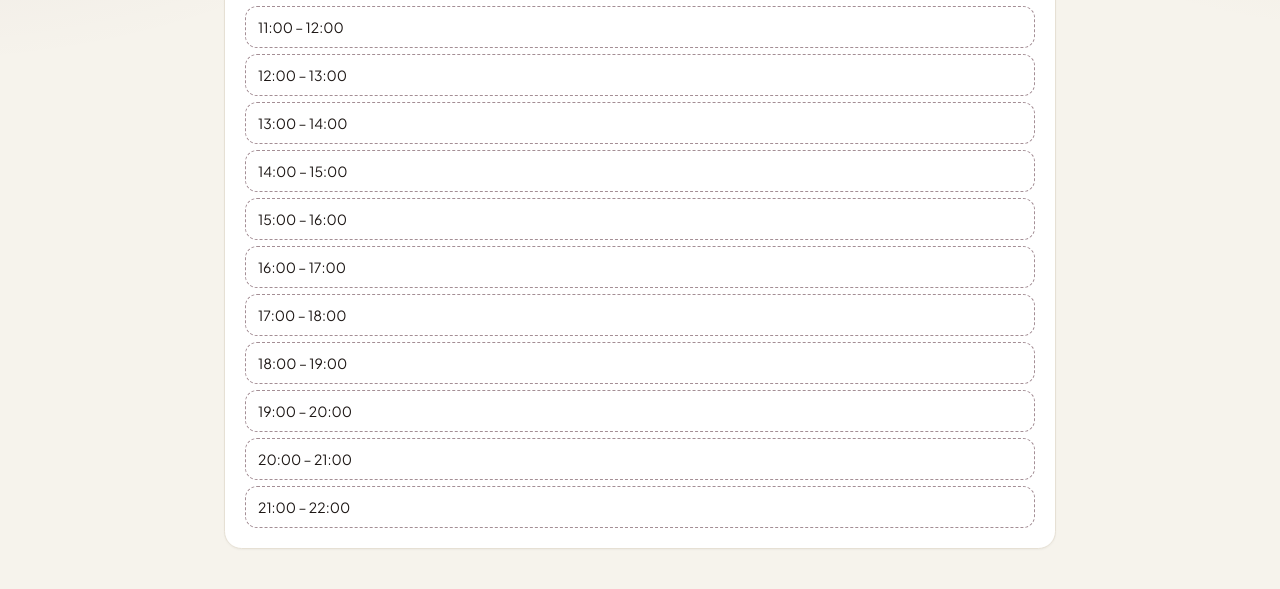
Scenario: RecursoAgenda Page & Concurrency Prevention (US09 / RF04) › exibe erro de lotação máxima quando o backend rejeita o payload
(page scrolled)
Click the button "16:00 – 17:00" at (277, 267), box [245,246,1035,288]
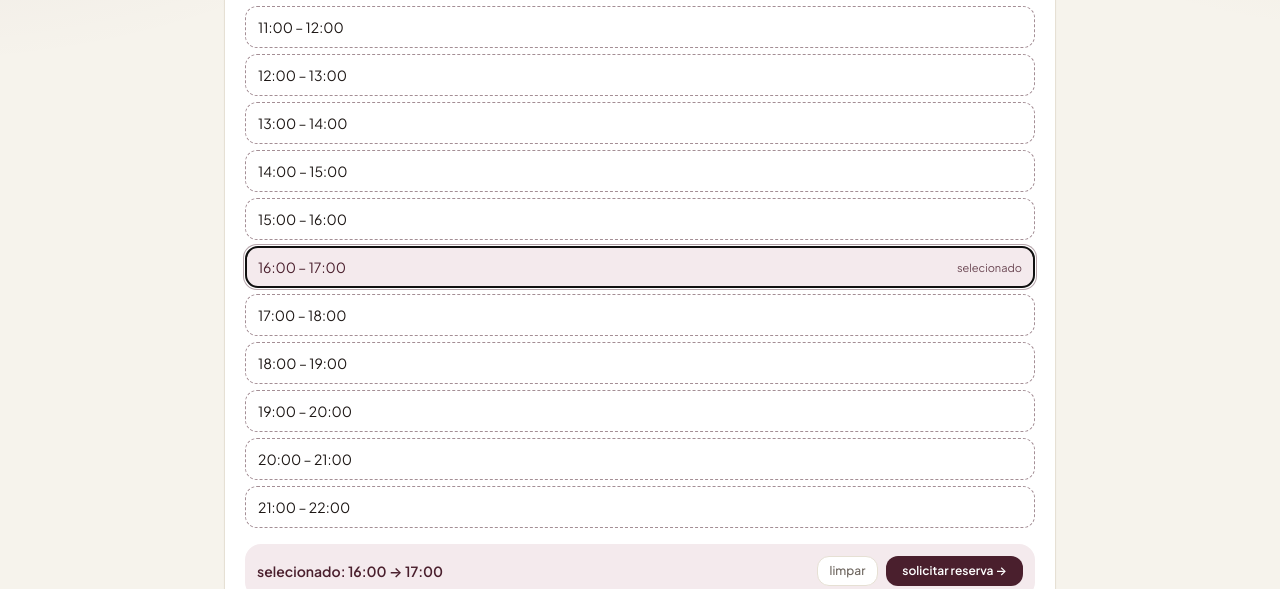
Click the button "solicitar reserva →" at (955, 571), box [886,556,1023,586]
(page scrolled)
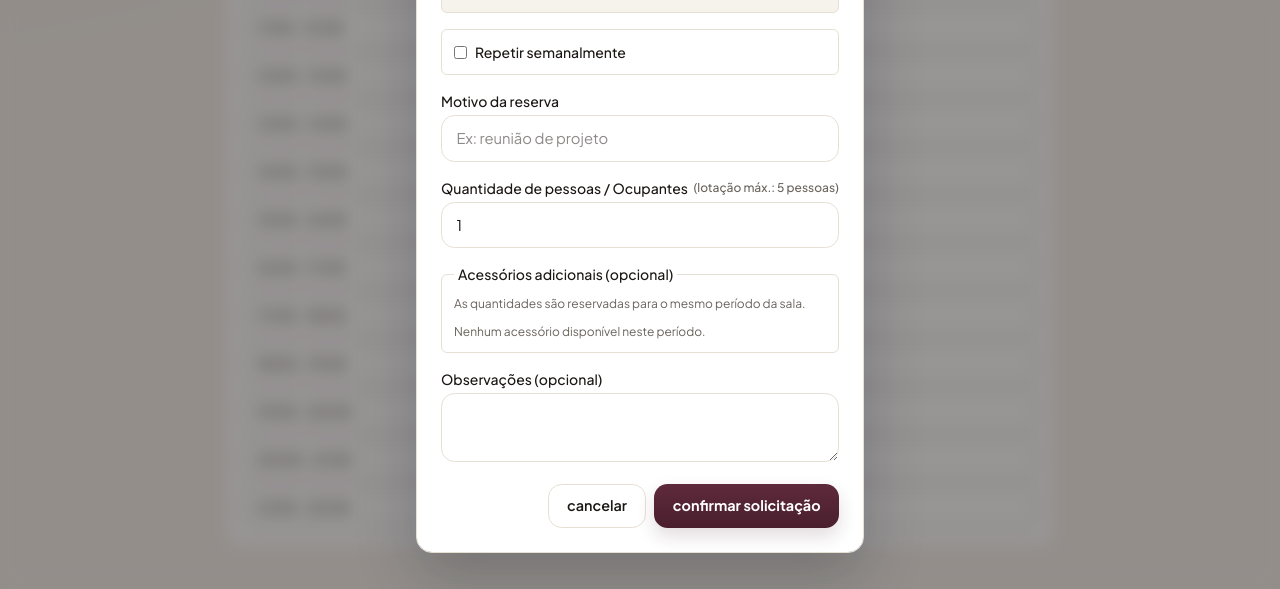
Click the button "confirmar solicitação" at (747, 506), box [654,484,839,528]
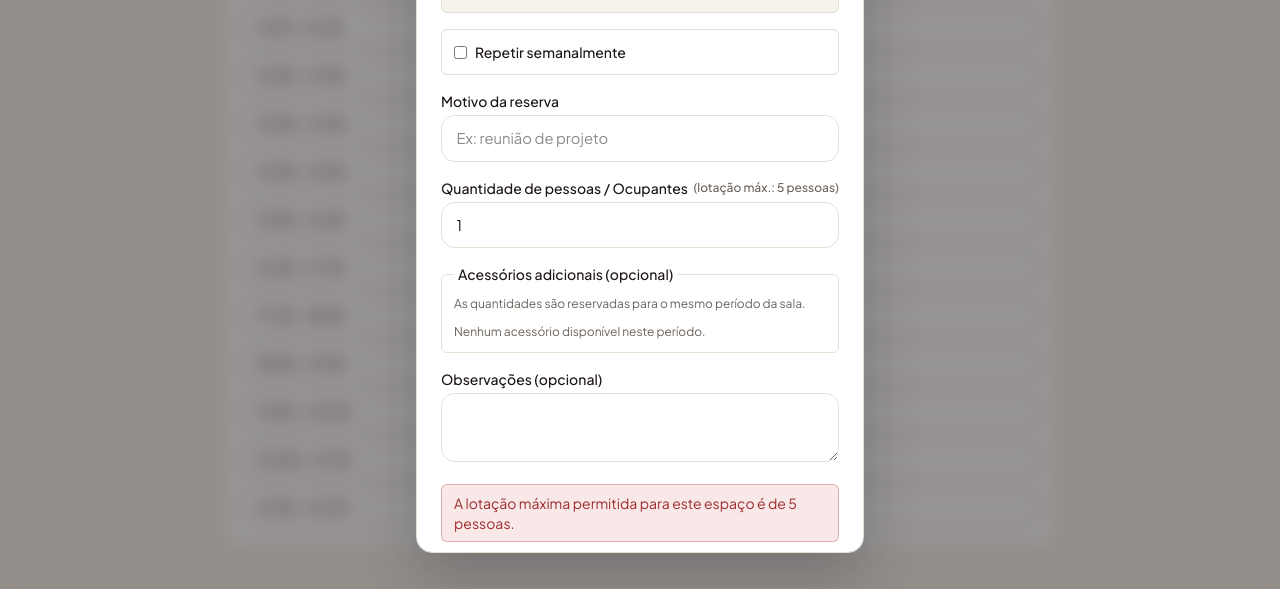
Expected: the text "A lotação máxima permitida para este espaço é de 5 pessoas." is shown, [441,484,839,542]
